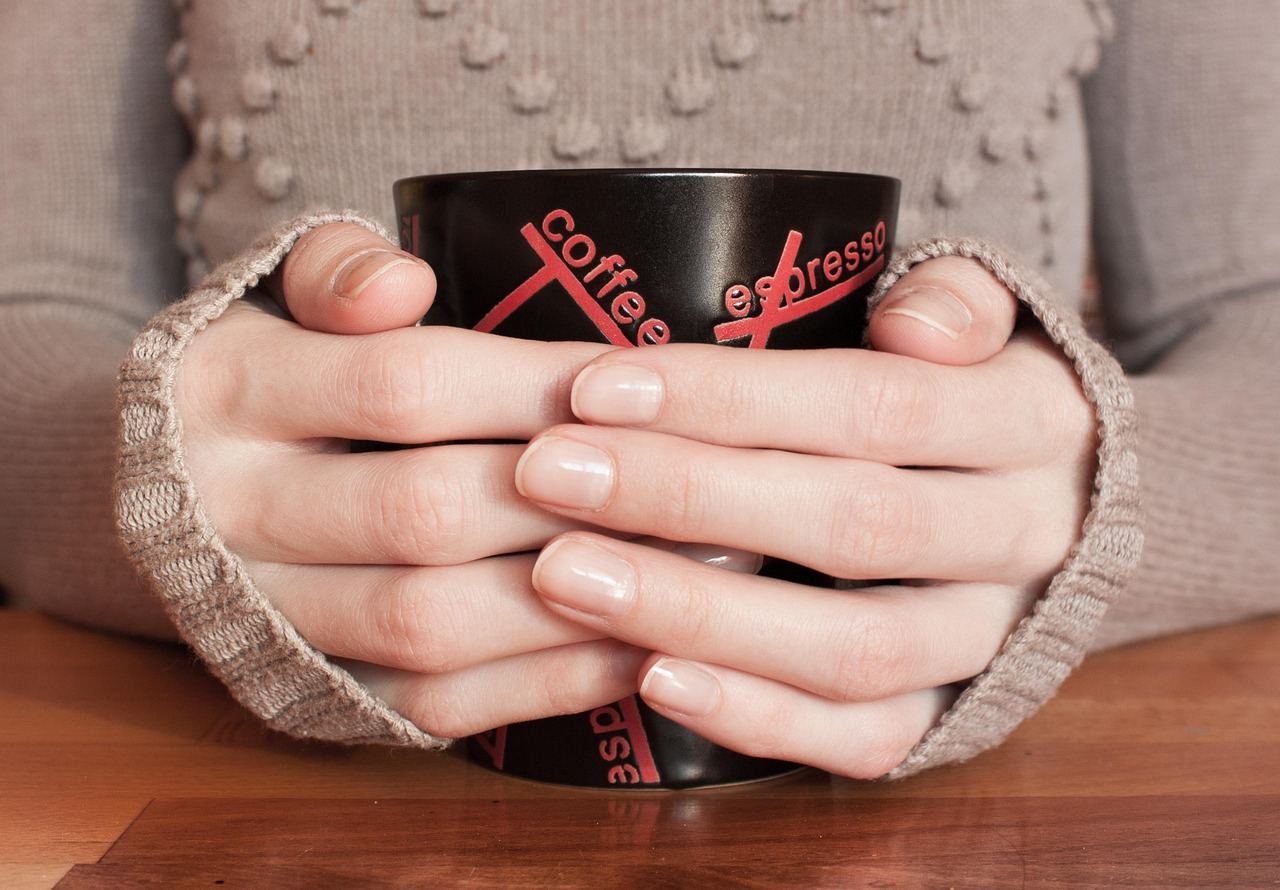mug: (319, 164, 965, 843)
